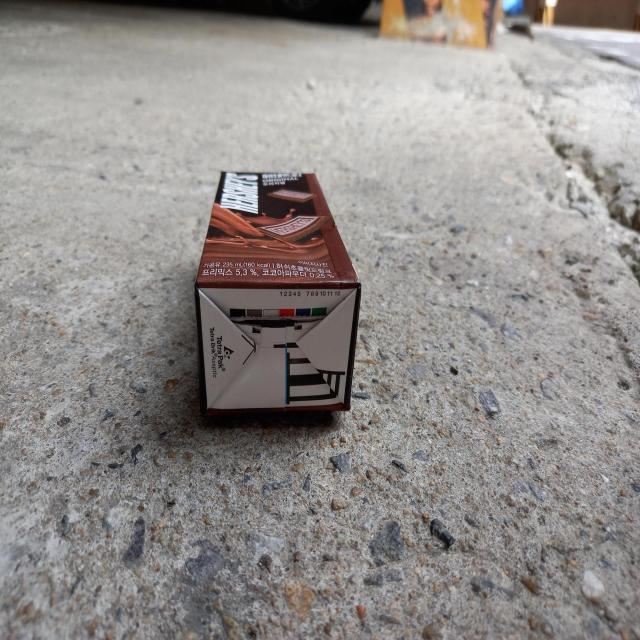paperpack: (194, 172, 361, 415)
